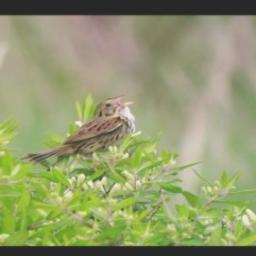Sparrow: (18, 94, 138, 170)
